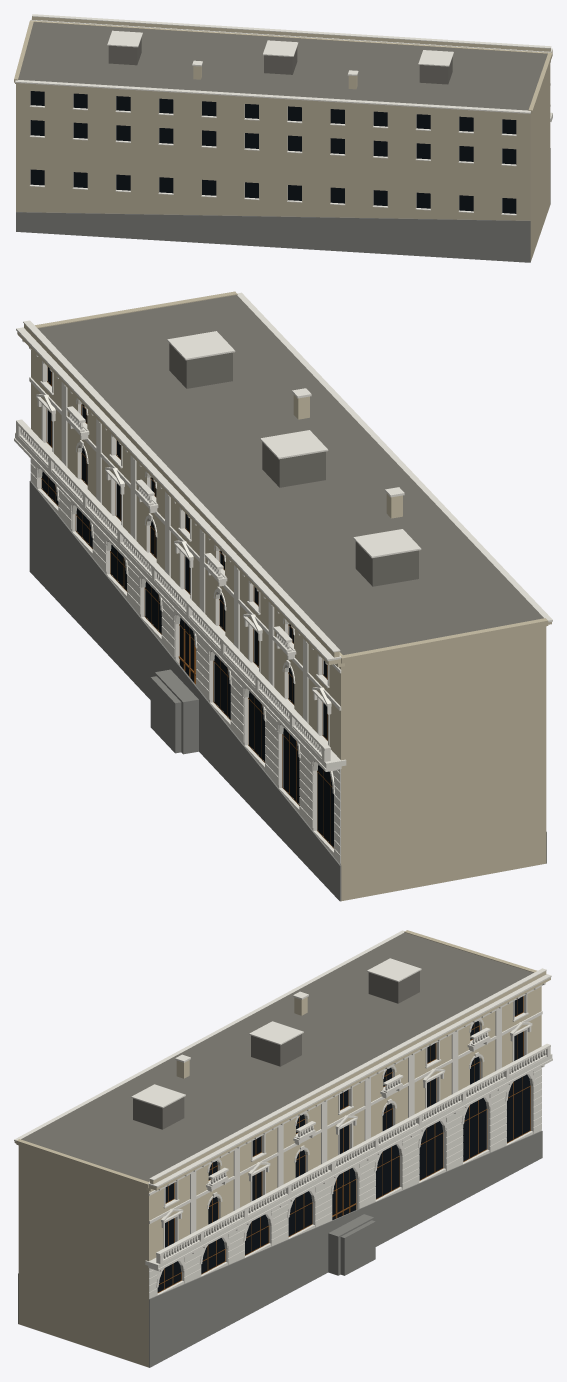
The model's file is bmorskaya2.glb.
3 renders of one model, top to bottom at view 1: azimuth 30°, elevation 25°; view 2: azimuth 150°, elevation 25°; view 3: azimuth 270°, elevation 25°, orthographic. The views are drawn at different scales.
Visible parts, largest first — view 1: bmorskaya2_wall3, bmorskaya2_roof, bmorskaya2_stone, bmorskaya2_glass, bmorskaya2_trim, bmorskaya2_wall; view 2: bmorskaya2_roof, bmorskaya2_wall3, bmorskaya2_trim, bmorskaya2_stone, bmorskaya2_wall, bmorskaya2_wall2, bmorskaya2_glass, bmorskaya2_wood; view 3: bmorskaya2_roof, bmorskaya2_trim, bmorskaya2_wall3, bmorskaya2_stone, bmorskaya2_wall, bmorskaya2_glass, bmorskaya2_wall2, bmorskaya2_wood.
Boxes of the visible parts, x1=… form: bmorskaya2_wall3: x1=14, y1=20, x2=552, y2=261; bmorskaya2_roof: x1=18, y1=22, x2=547, y2=110; bmorskaya2_stone: x1=16, y1=148, x2=550, y2=262; bmorskaya2_glass: x1=30, y1=91, x2=516, y2=213; bmorskaya2_trim: x1=15, y1=14, x2=552, y2=215; bmorskaya2_wall: x1=31, y1=16, x2=552, y2=89; bmorskaya2_roof: x1=38, y1=295, x2=543, y2=654; bmorskaya2_wall3: x1=35, y1=291, x2=551, y2=901; bmorskaya2_trim: x1=14, y1=292, x2=552, y2=852; bmorskaya2_stone: x1=29, y1=480, x2=546, y2=901; bmorskaya2_wall: x1=17, y1=324, x2=402, y2=759; bmorskaya2_wall2: x1=15, y1=432, x2=346, y2=864; bmorskaya2_glass: x1=42, y1=367, x2=334, y2=846; bmorskaya2_wood: x1=41, y1=366, x2=334, y2=848; bmorskaya2_roof: x1=21, y1=932, x2=533, y2=1181; bmorskaya2_trim: x1=14, y1=930, x2=552, y2=1294; bmorskaya2_wall3: x1=14, y1=930, x2=537, y2=1367; bmorskaya2_stone: x1=18, y1=1130, x2=542, y2=1367; bmorskaya2_wall: x1=146, y1=971, x2=550, y2=1260; bmorskaya2_glass: x1=157, y1=996, x2=530, y2=1292; bmorskaya2_wall2: x1=145, y1=1051, x2=552, y2=1298; bmorskaya2_wood: x1=158, y1=996, x2=530, y2=1292.
Bounding box in the file's own units: 48.63 × 18.2 × 42.95.
